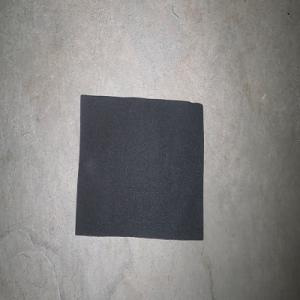PaintChip: (75, 94, 204, 240)
